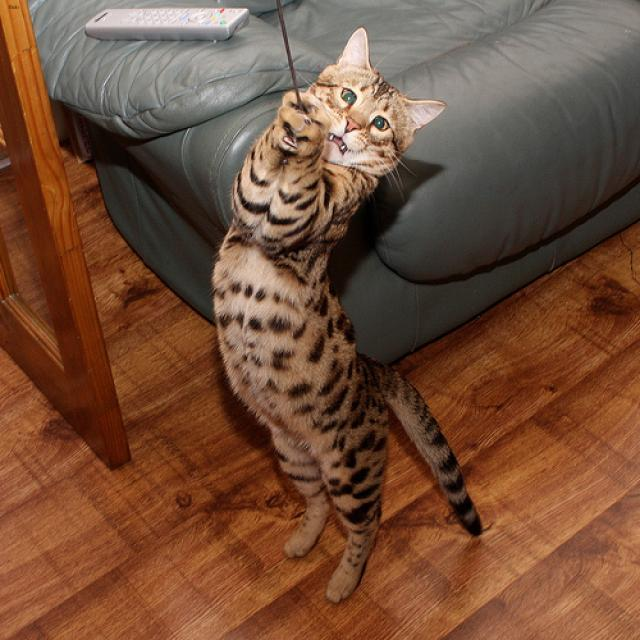Bengal: (304, 26, 445, 174)
